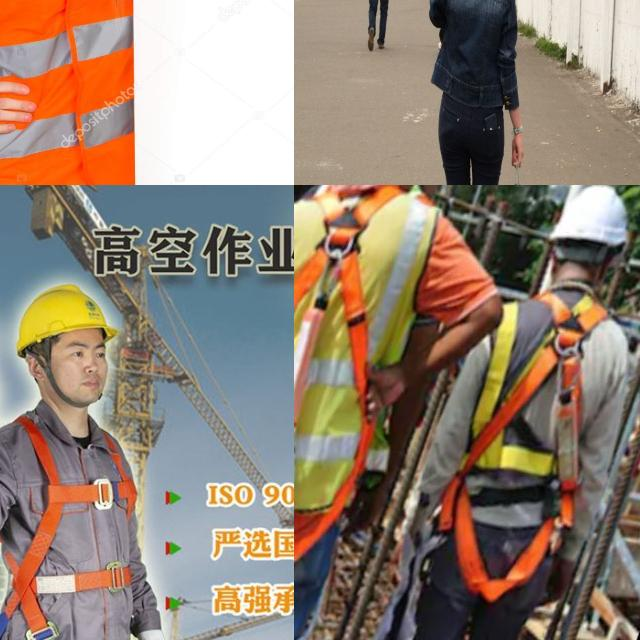Harness: (439, 292, 608, 604), (0, 412, 132, 640), (294, 187, 399, 429), (539, 292, 608, 528)
hand_noglove: (0, 83, 39, 146)
person: (0, 0, 178, 179)
vest: (0, 0, 131, 185)
